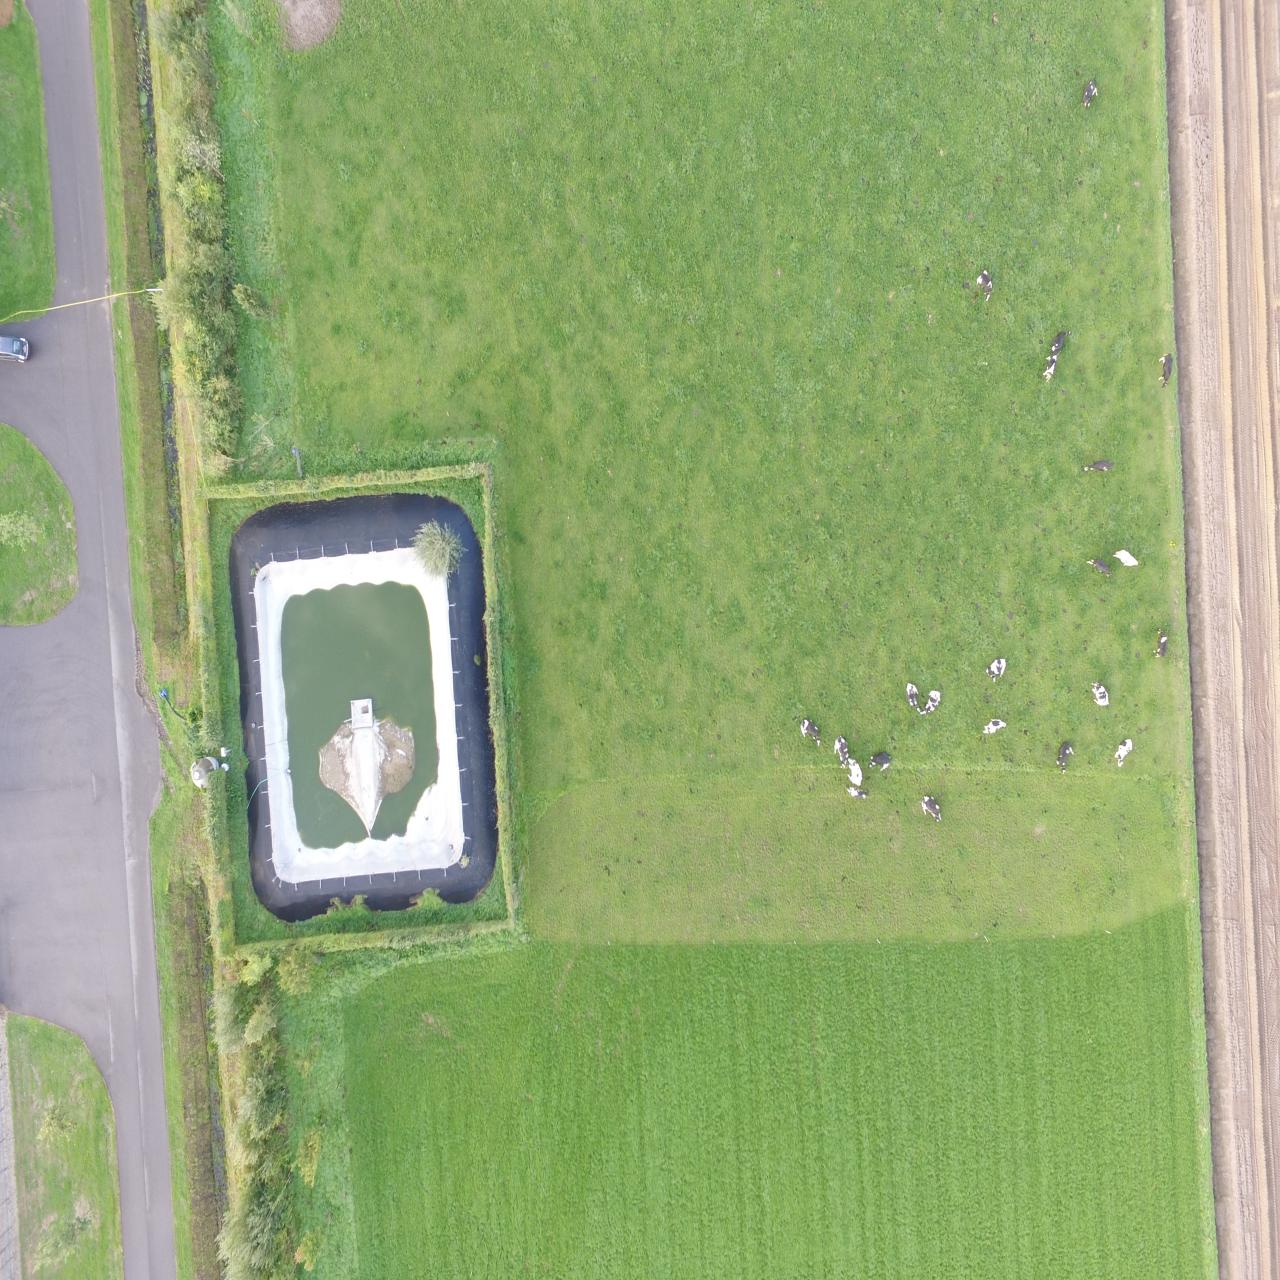cow: (796, 716, 821, 745), (920, 792, 941, 823), (983, 655, 1006, 683), (1056, 738, 1074, 772), (831, 731, 847, 768), (975, 270, 993, 302), (869, 748, 892, 772), (1089, 679, 1109, 707), (1084, 557, 1111, 577), (920, 689, 940, 716), (1081, 77, 1098, 108), (1114, 737, 1131, 767), (904, 682, 920, 713), (1042, 354, 1061, 380), (1151, 628, 1167, 658), (1050, 329, 1071, 352), (982, 716, 1007, 735), (1111, 550, 1138, 566), (1159, 352, 1171, 388), (846, 757, 862, 784), (1083, 461, 1115, 474), (845, 784, 870, 798)
